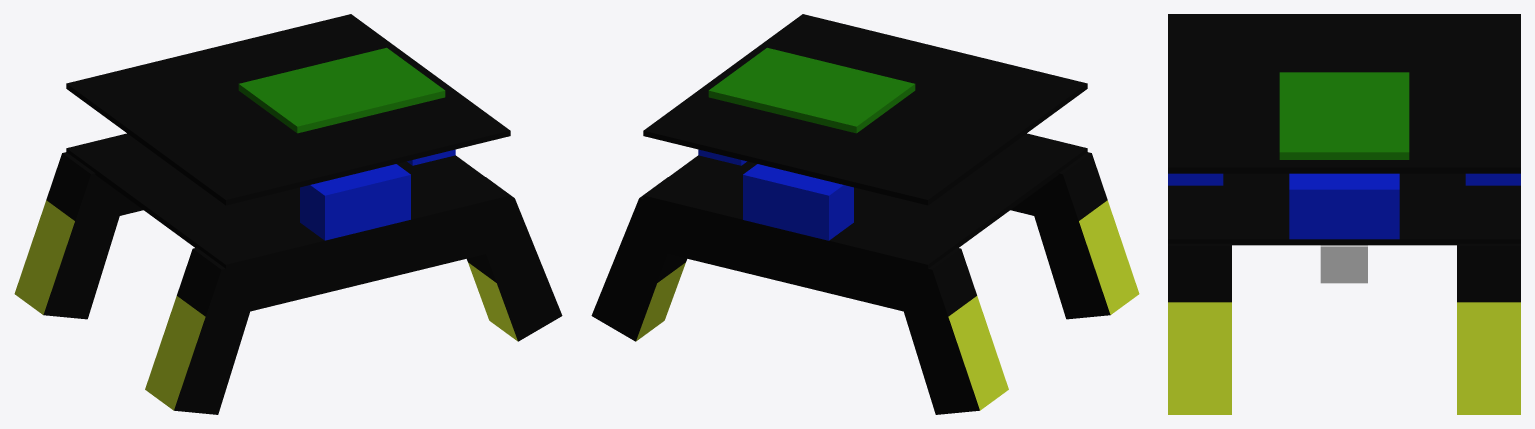
The model's file is robob_platform.dae.
3 views of the same model, side by side, from view 1: azimuth 30°, elevation 25°; view 2: azimuth 150°, elevation 25°; view 3: azimuth 270°, elevation 25° (orthographic). The views are drawn at different scales.
Visible parts, largest first — view 1: floor2, wheelhouse1, floor1, wheelhouse2, Cube, SonarFäste_right; view 2: floor2, wheelhouse2, floor1, wheelhouse1, Cube, SonarFäste_left; view 3: floor2, floor1, Cube, wheelhouse1, wheelhouse2, SonarFäste_front, CameraFäste, SonarFäste_left, SonarFäste_right.
Boxes of the visible parts, x1,y1,x2,y2 form: floor2: [66, 14, 510, 205]; wheelhouse1: [145, 177, 562, 414]; floor1: [66, 133, 510, 268]; wheelhouse2: [14, 152, 143, 319]; Cube: [238, 47, 445, 133]; SonarFäste_right: [300, 164, 410, 240]; floor2: [643, 14, 1087, 205]; wheelhouse2: [591, 177, 1008, 414]; floor1: [643, 133, 1087, 270]; wheelhouse1: [1010, 152, 1139, 319]; Cube: [708, 47, 915, 133]; SonarFäste_left: [743, 164, 853, 240]; floor2: [1168, 14, 1520, 173]; floor1: [1168, 173, 1520, 245]; Cube: [1279, 72, 1409, 159]; wheelhouse1: [1168, 243, 1231, 414]; wheelhouse2: [1457, 243, 1520, 414]; SonarFäste_front: [1289, 173, 1399, 239]; CameraFäste: [1320, 245, 1367, 283]; SonarFäste_left: [1465, 173, 1520, 185]; SonarFäste_right: [1168, 173, 1223, 185].
Bounding box in the file's own units: 0.2253 × 0.16 × 0.1217.
